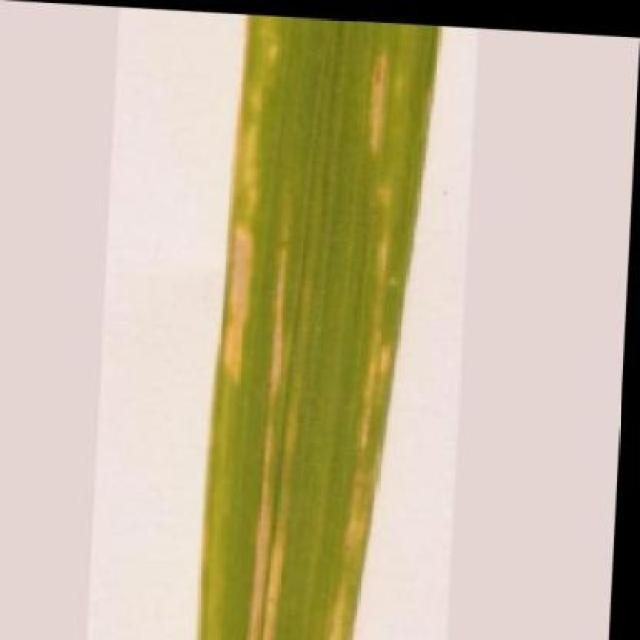Brown_Spot: (198, 9, 445, 640)
